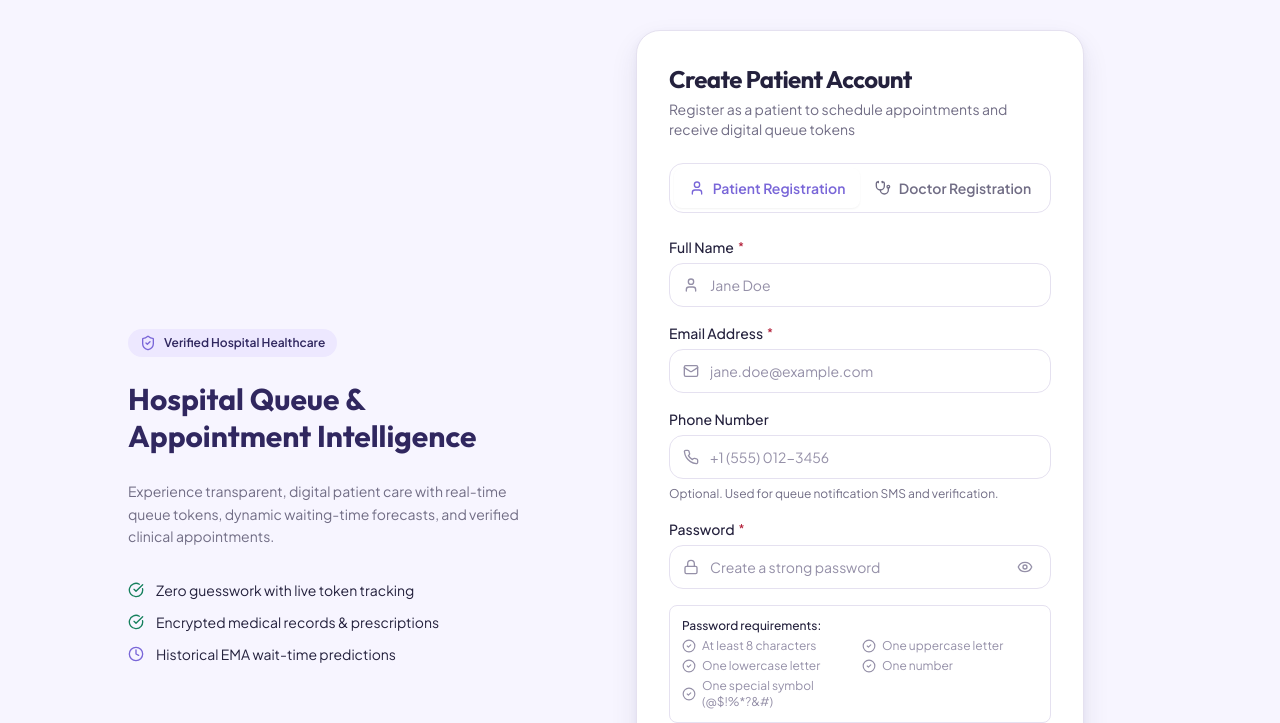
Test: Authentication Flows › RegisterPage › validates password strength and password match
Type "Jane" into the field labelled "Full Name *" at (860, 285), box [669, 263, 1051, 307]
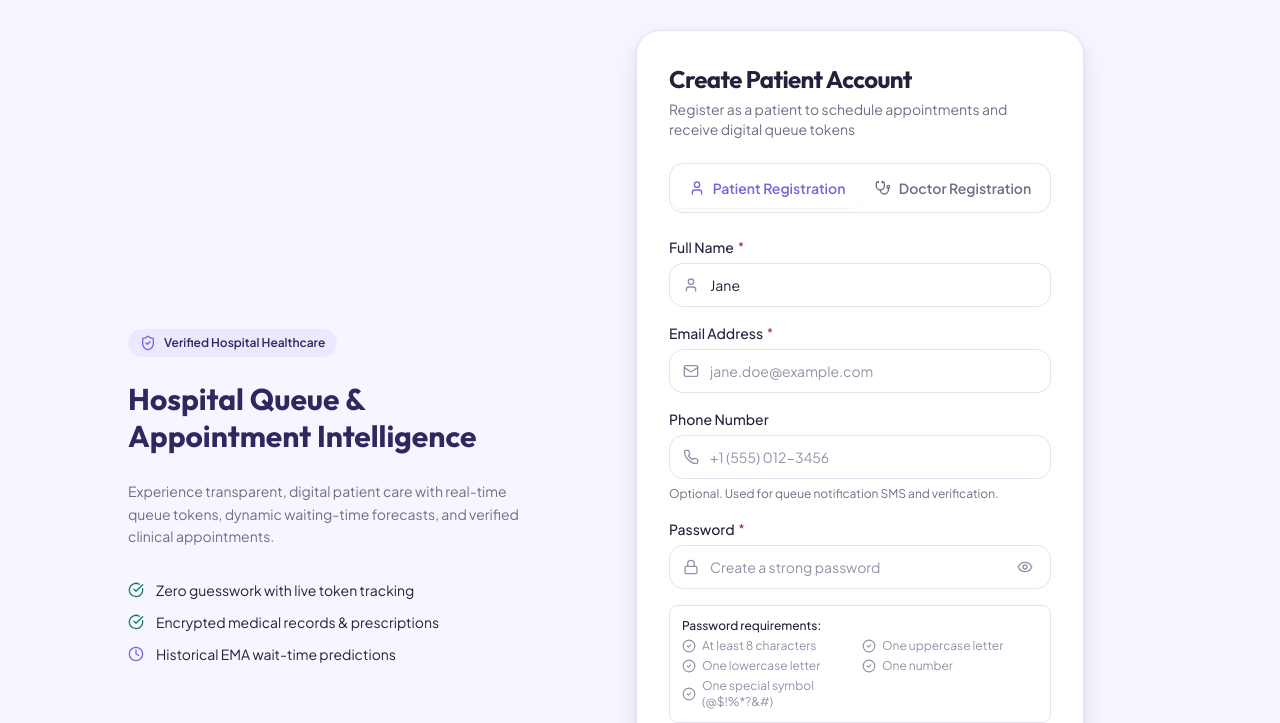
Type "jane@test.com" into the field labelled "Email Address *" at (860, 371), box [669, 349, 1051, 393]
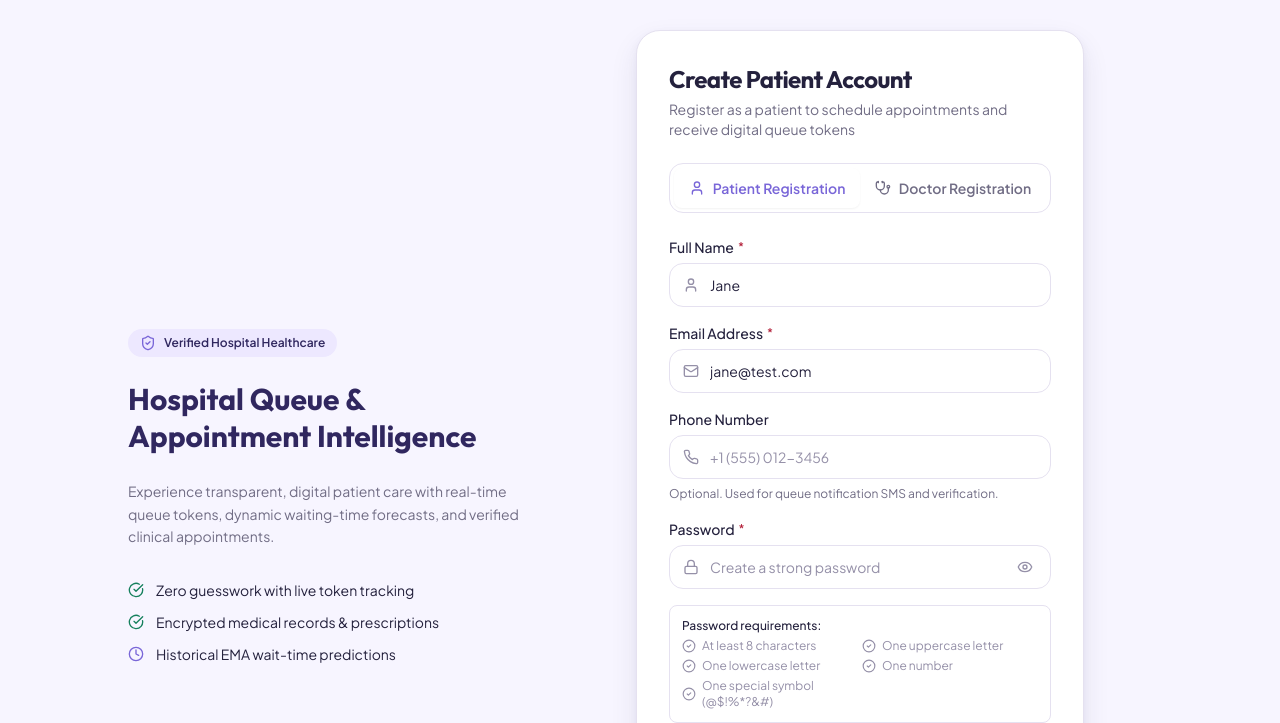
Type "weak" into the password field labelled "Password *" at (860, 567), box [669, 545, 1051, 589]
(page scrolled)
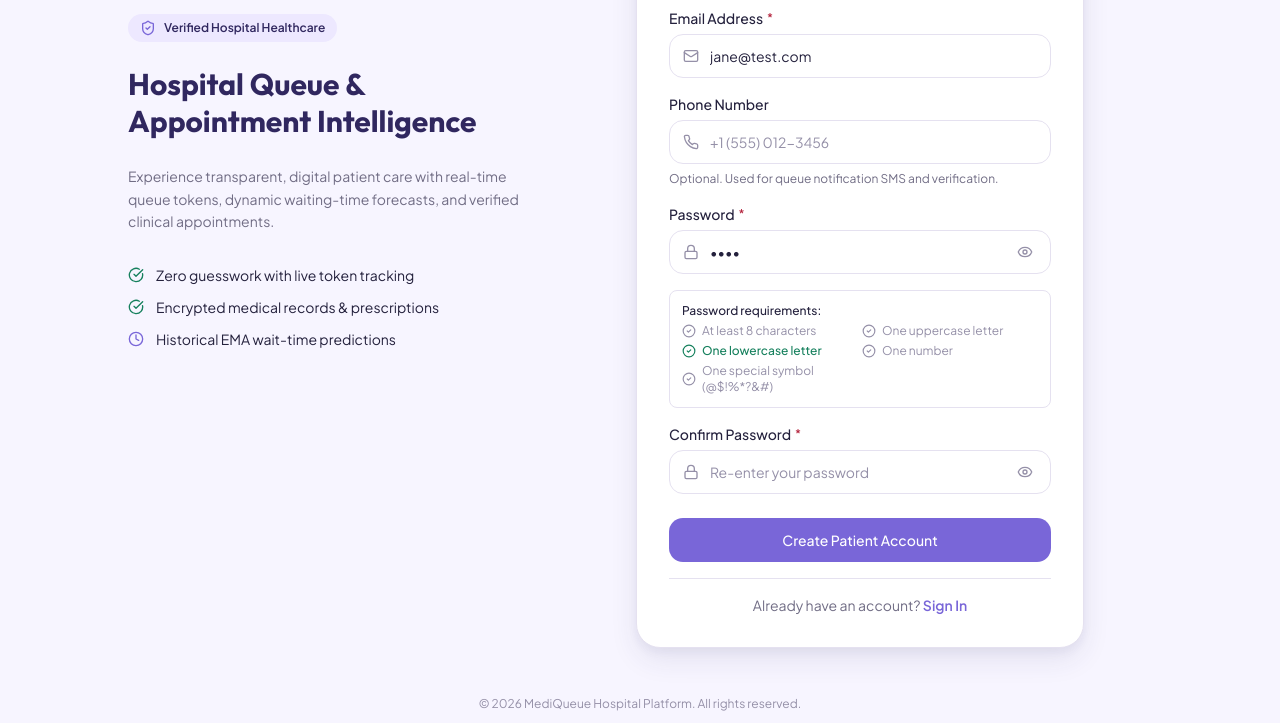
Type "mismatch" into the password field labelled "Confirm Password *" at (860, 472), box [669, 450, 1051, 494]
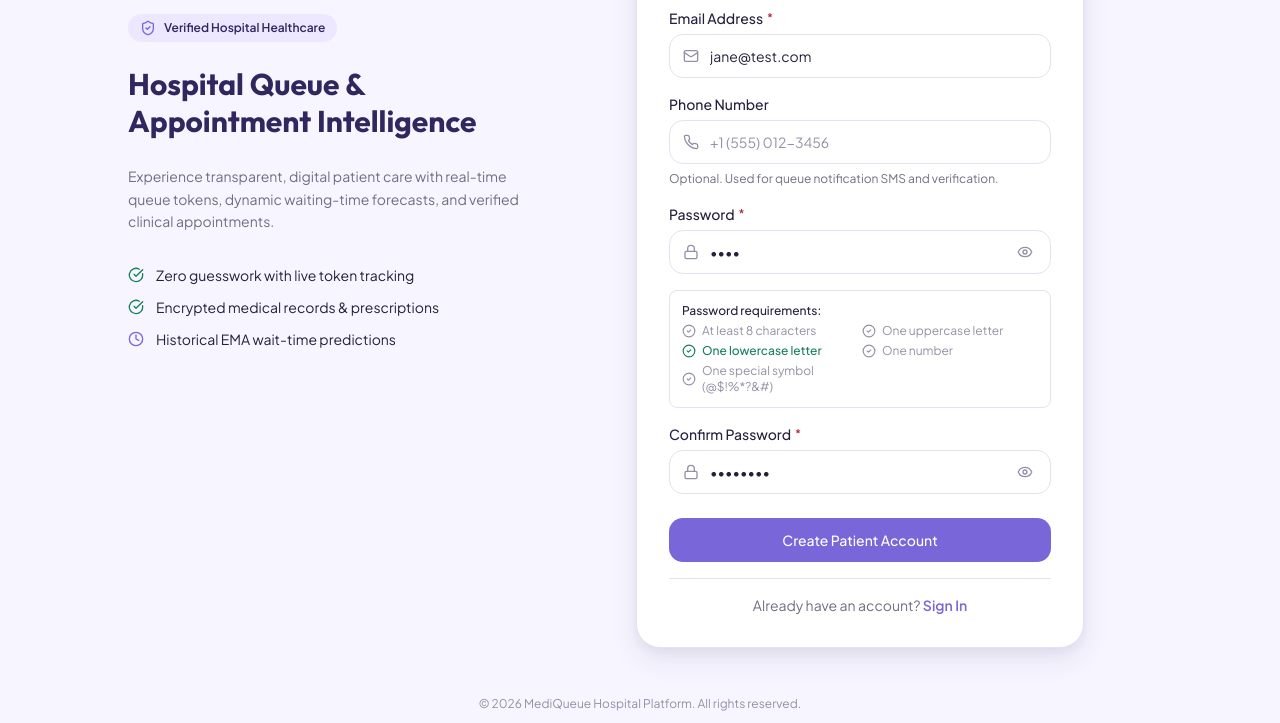
Click the button "Create Patient Account" at (860, 540), box [669, 518, 1051, 562]
(page scrolled)
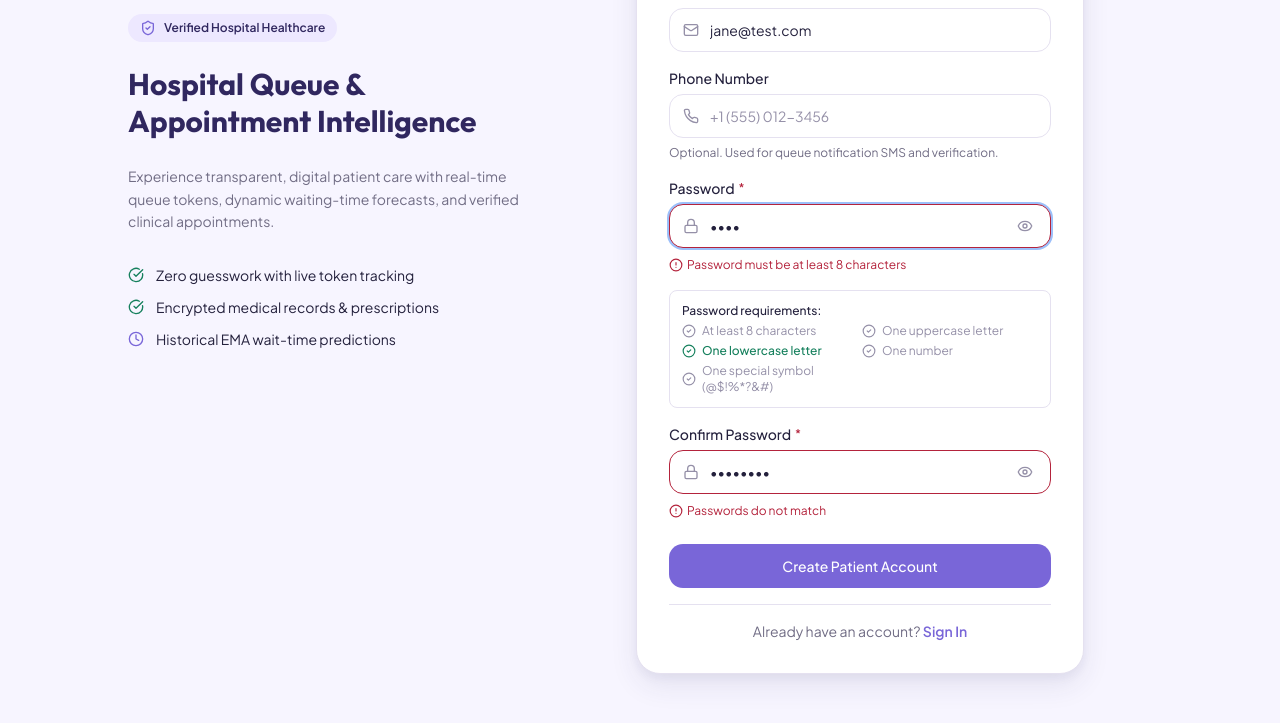
Check: the text "Password must be at least 8 characters" is shown, box [687, 256, 906, 274]
Check: the text "Passwords do not match" is shown, box [687, 502, 826, 520]
